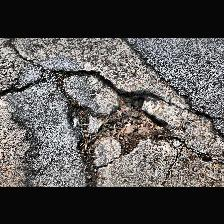pothole: (52, 67, 174, 171)
